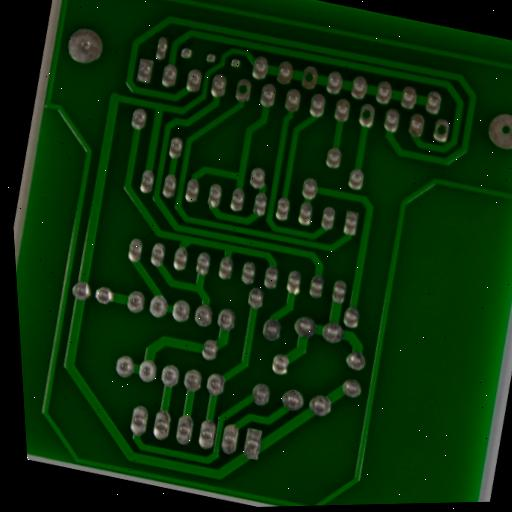missing_hole: (354, 105, 379, 129), (491, 117, 512, 144), (430, 119, 453, 143), (231, 78, 254, 102), (299, 66, 321, 88)
